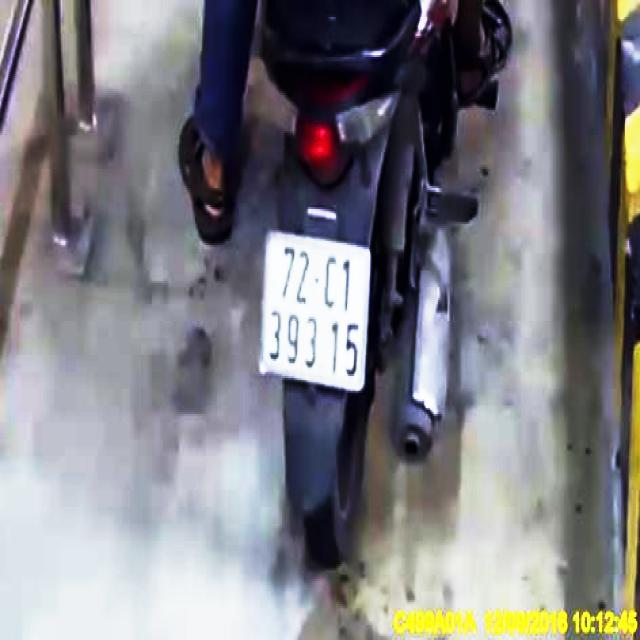license_plate: (259, 234, 375, 389)
